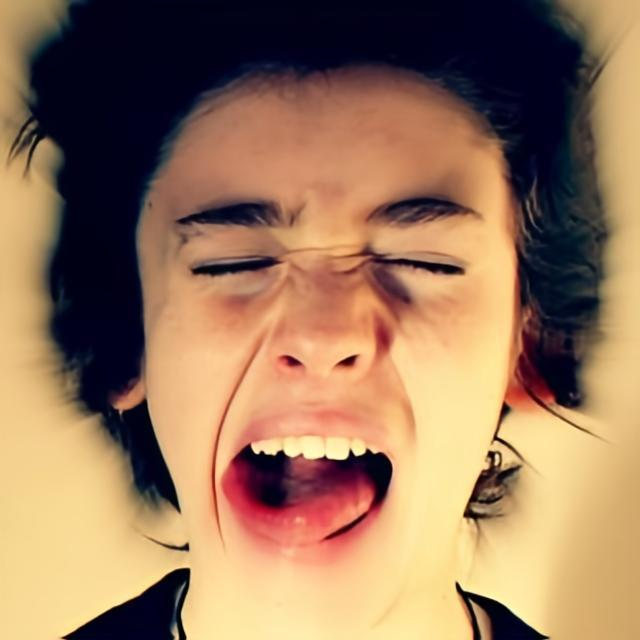disgust: (134, 54, 520, 640)
